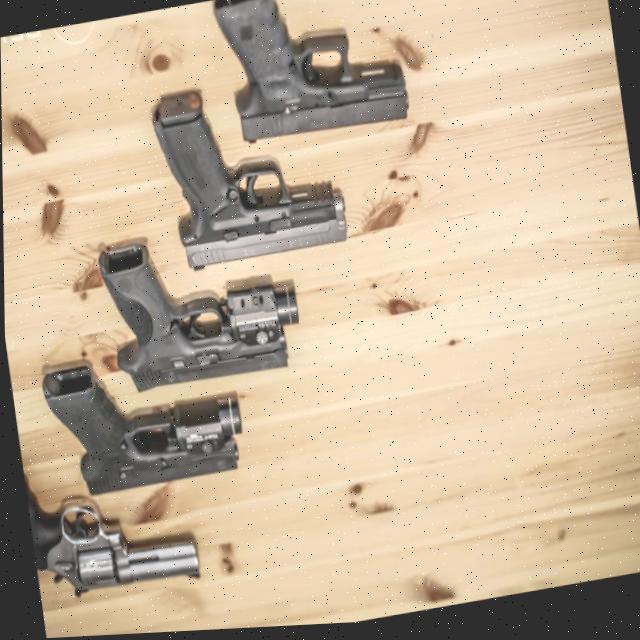pistol: (147, 65, 350, 282), (93, 214, 305, 403), (36, 337, 249, 506), (19, 426, 203, 616), (210, 0, 414, 158)
